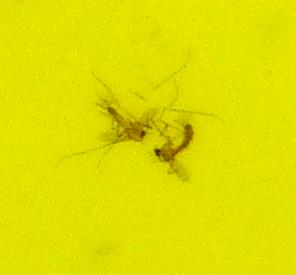Nematocera: (100, 100, 155, 145), (151, 120, 196, 175)
